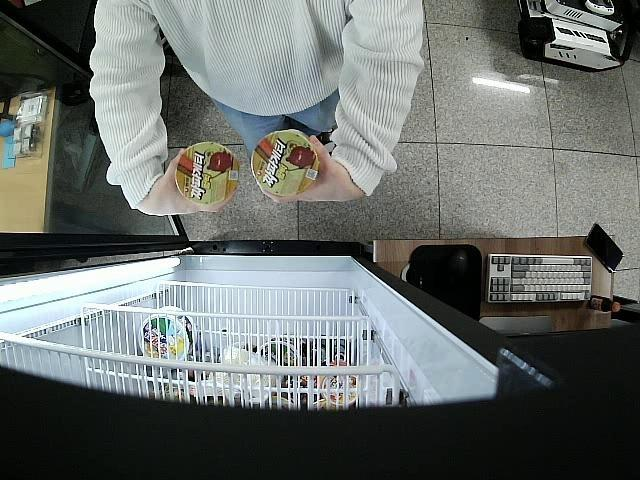04_chapagetti_S: (251, 129, 318, 198), (174, 142, 240, 207)
